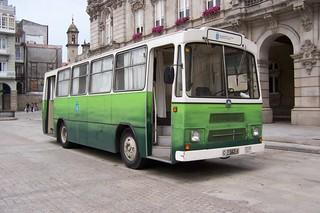bus: (41, 24, 272, 171)
